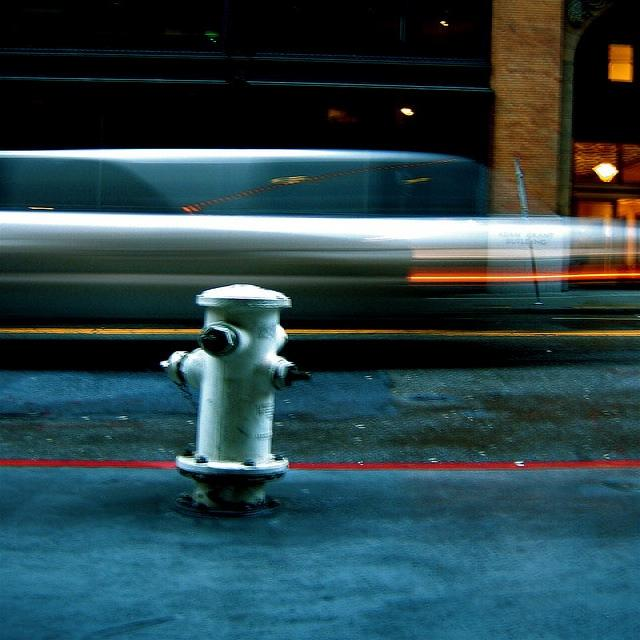fire_hydrant: (152, 282, 307, 515)
